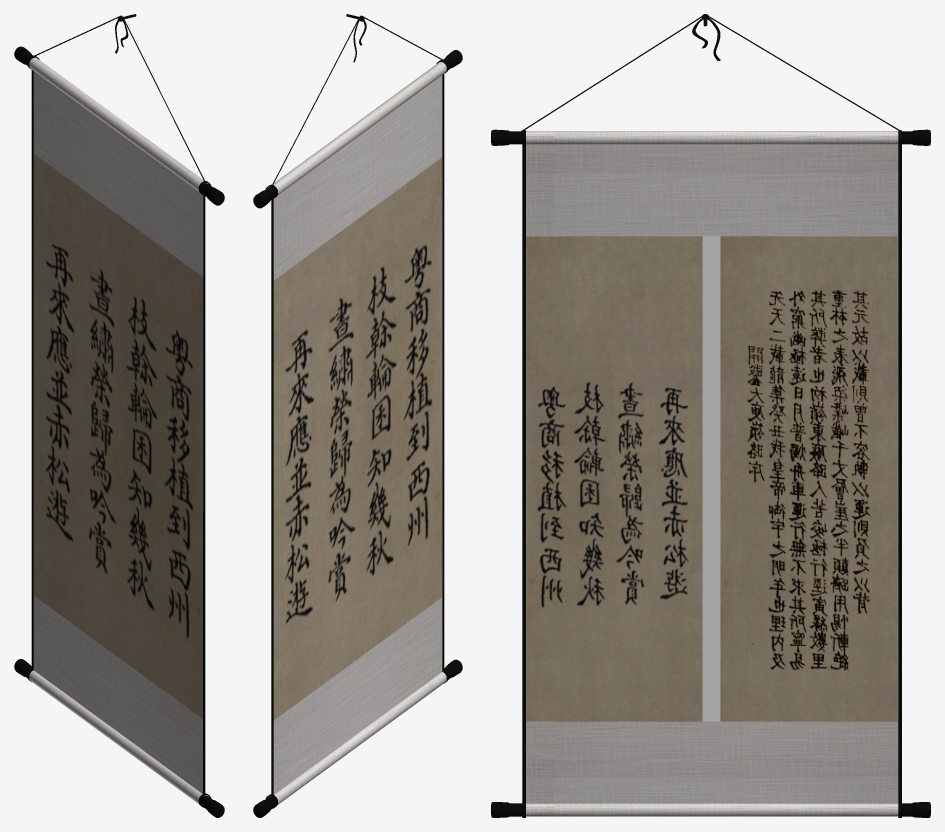
Rendered from SY-宋元诗词.fbx.
The picture shows the model from 3 angles, left to right: view 1: azimuth 30°, elevation 25°; view 2: azimuth 150°, elevation 25°; view 3: azimuth 270°, elevation 25°; orthographic projection. The views are drawn at different scales.
Parts seen in each view (by area): view 1: SY-宋元诗词; view 2: SY-宋元诗词; view 3: SY-宋元诗词.
Boxes of the visible parts, bbox=[...] form: SY-宋元诗词: bbox=[14, 14, 224, 817]; SY-宋元诗词: bbox=[253, 14, 462, 817]; SY-宋元诗词: bbox=[491, 14, 930, 817].
Bounding box in the file's own units: 0.0374 × 0.6675 × 1.34.
